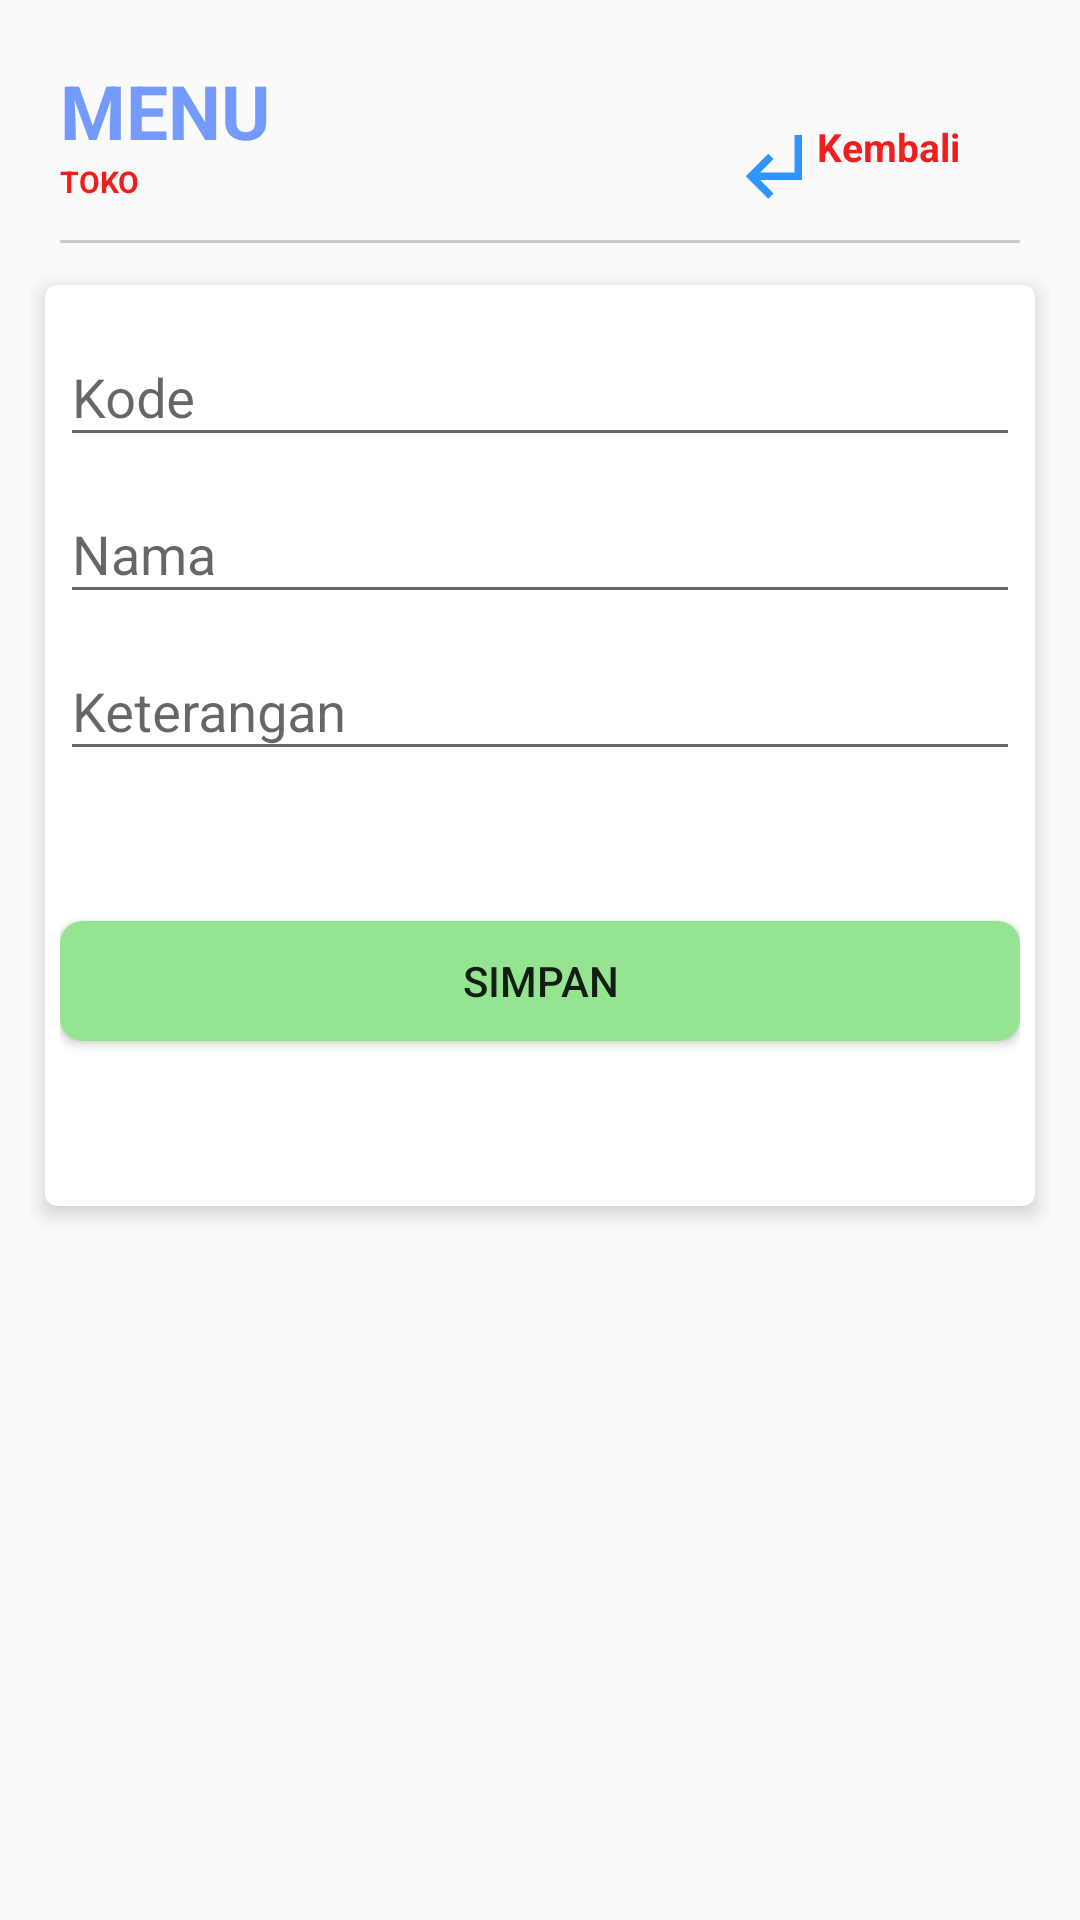

Locate icon controls on the screen. Image size 1080x1920, boxes as bbox=[x1, y1, x2, y2].
subdirectory arrow left: bbox=[746, 135, 802, 199]
